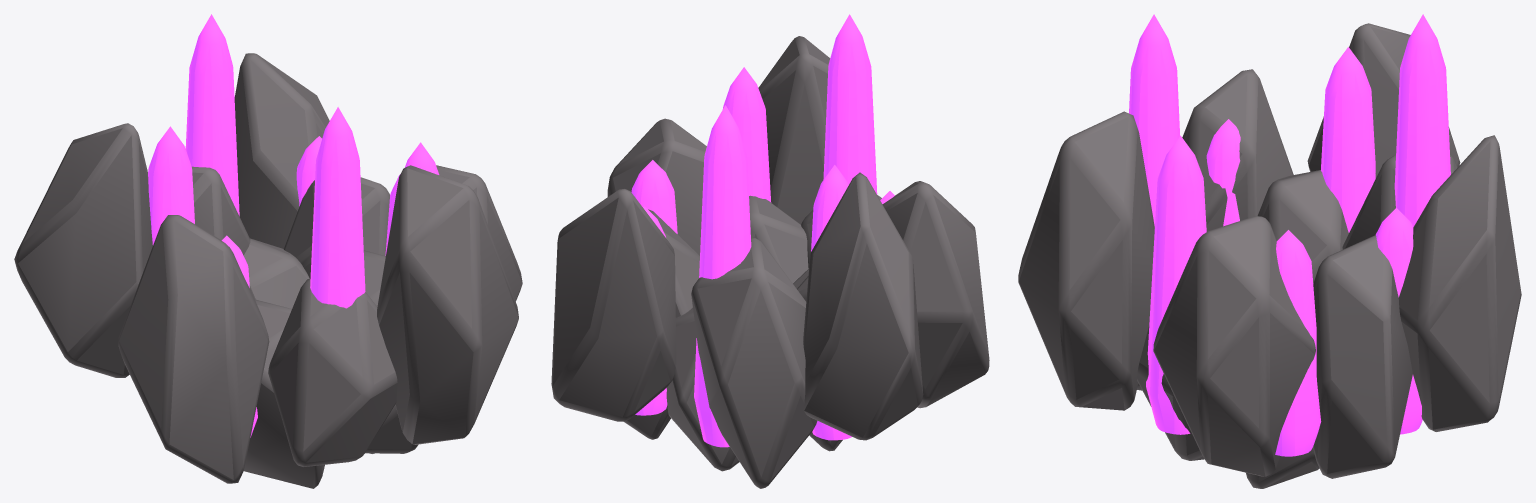
Rendered from corrupted_rocks.glb.
3 renders of one model, left to right at view 1: azimuth 30°, elevation 25°; view 2: azimuth 150°, elevation 25°; view 3: azimuth 270°, elevation 25°, orthographic. The views are drawn at different scales.
Parts seen in each view (by area): view 1: Rock_11, Rock_9, Rock_12, Rock_6, Rock_10, Crystal_2, Crystal_5, Rock_1, Crystal_4, Rock_5, Rock_2, Rock_7 (+4 smaller); view 2: Rock_12, Rock_10, Rock_7, Rock_9, Rock_11, Crystal_5, Crystal_2, Rock_8, Rock_2, Crystal_1, Rock_3, Rock_5 (+3 smaller); view 3: Rock_11, Rock_8, Rock_10, Rock_5, Rock_9, Crystal_5, Crystal_1, Crystal_4, Crystal_2, Rock_4, Rock_12, Crystal_0 (+5 smaller).
Boxes of the visible parts, x1=… form: Rock_11: x1=377, y1=165, x2=518, y2=444; Rock_9: x1=118, y1=215, x2=269, y2=483; Rock_12: x1=14, y1=123, x2=152, y2=377; Rock_6: x1=268, y1=278, x2=397, y2=466; Rock_10: x1=234, y1=53, x2=329, y2=248; Crystal_2: x1=310, y1=107, x2=365, y2=308; Crystal_5: x1=185, y1=14, x2=239, y2=216; Rock_1: x1=243, y1=299, x2=324, y2=488; Crystal_4: x1=148, y1=126, x2=194, y2=245; Rock_5: x1=283, y1=177, x2=389, y2=278; Rock_2: x1=243, y1=238, x2=309, y2=308; Rock_7: x1=192, y1=166, x2=250, y2=255; Rock_12: x1=803, y1=172, x2=923, y2=440; Rock_10: x1=551, y1=189, x2=676, y2=421; Rock_7: x1=691, y1=237, x2=817, y2=488; Rock_9: x1=882, y1=181, x2=989, y2=408; Rock_11: x1=758, y1=36, x2=830, y2=224; Crystal_5: x1=694, y1=105, x2=751, y2=447; Crystal_2: x1=823, y1=14, x2=877, y2=194; Rock_8: x1=607, y1=118, x2=706, y2=255; Rock_2: x1=666, y1=307, x2=739, y2=471; Crystal_1: x1=722, y1=67, x2=771, y2=202; Rock_3: x1=749, y1=195, x2=808, y2=283; Rock_5: x1=624, y1=209, x2=699, y2=439; Rock_11: x1=1018, y1=111, x2=1154, y2=410; Rock_8: x1=1153, y1=216, x2=1315, y2=476; Rock_10: x1=1398, y1=135, x2=1521, y2=431; Rock_5: x1=1313, y1=235, x2=1412, y2=478; Rock_9: x1=1182, y1=69, x2=1293, y2=231; Crystal_5: x1=1394, y1=14, x2=1450, y2=226; Crystal_1: x1=1146, y1=135, x2=1206, y2=434; Crystal_4: x1=1321, y1=47, x2=1375, y2=232; Crystal_2: x1=1129, y1=14, x2=1179, y2=227; Rock_4: x1=1257, y1=170, x2=1348, y2=283; Rock_12: x1=1307, y1=23, x2=1460, y2=178; Crystal_0: x1=1275, y1=230, x2=1321, y2=456.
Bounding box in the file's own units: 1.71 × 1.65 × 1.75.
